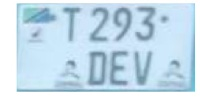T: (61, 6, 81, 43)
